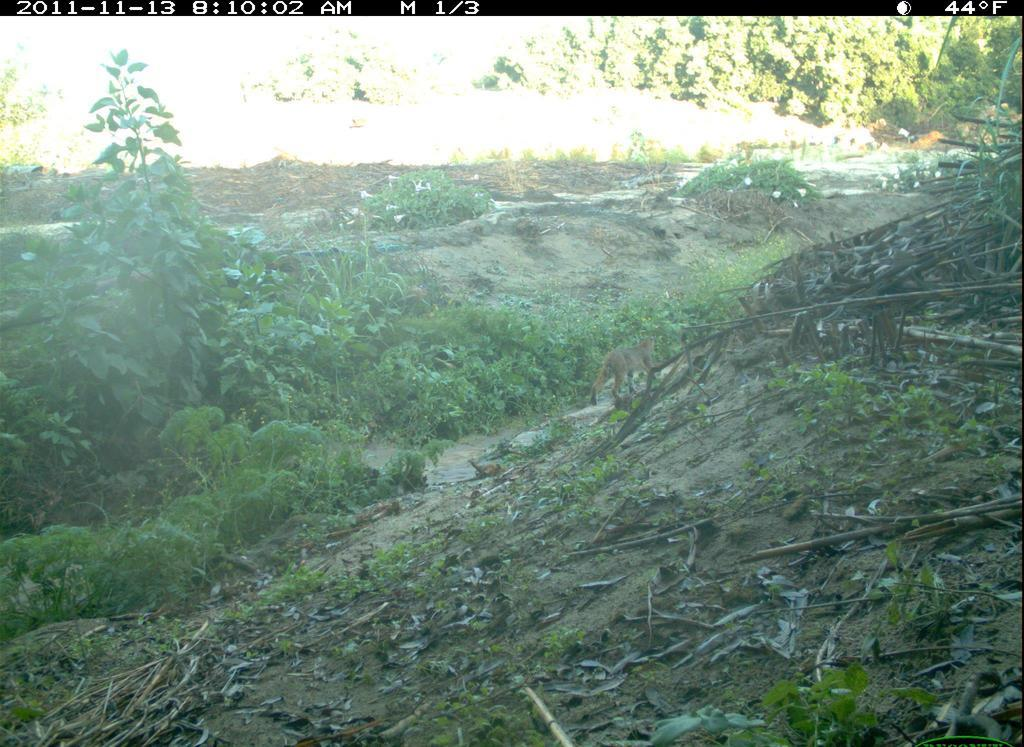bobcat: (588, 329, 664, 419)
